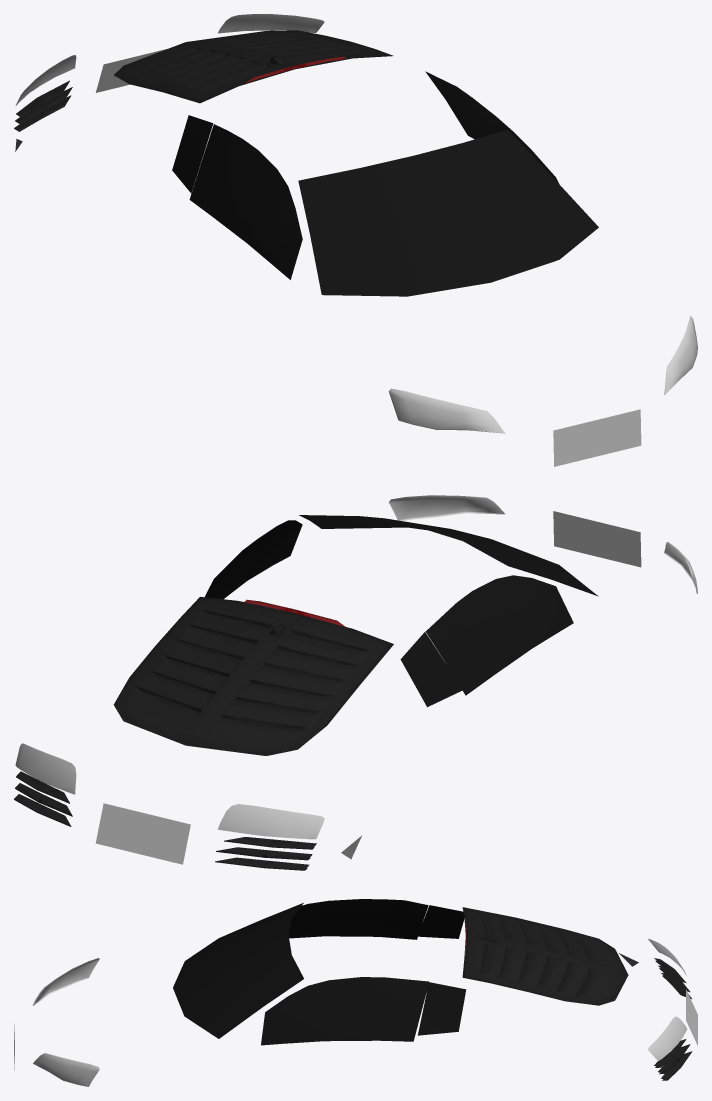
File: Audi_R8.FBX
3 views of the same model, one above another, from view 1: azimuth 30°, elevation 25°; view 2: azimuth 150°, elevation 25°; view 3: azimuth 270°, elevation 25° (orthographic). The views are drawn at different scales.
Visible parts, largest first — view 1: Object004, Object003, Object002; view 2: Object004, Object003, Object002; view 3: Object004, Object003, Object002.
Boxes of the visible parts, <box> form: Object004: <box>114,30,598,296</box>; Object003: <box>15,14,697,466</box>; Object002: <box>14,80,72,151</box>; Object004: <box>113,515,598,755</box>; Object003: <box>15,495,697,864</box>; Object002: <box>14,771,361,870</box>; Object004: <box>173,899,628,1045</box>; Object003: <box>14,939,697,1086</box>; Object002: <box>619,953,692,1080</box>.
Size of what is drawn, in the model's own units: 1.77 by 0.89 by 4.37.
